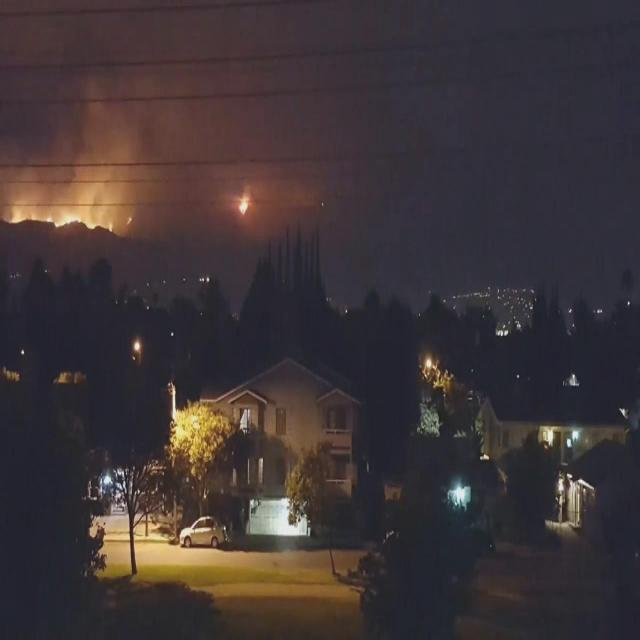Fire: (9, 208, 115, 236), (239, 195, 251, 215)
